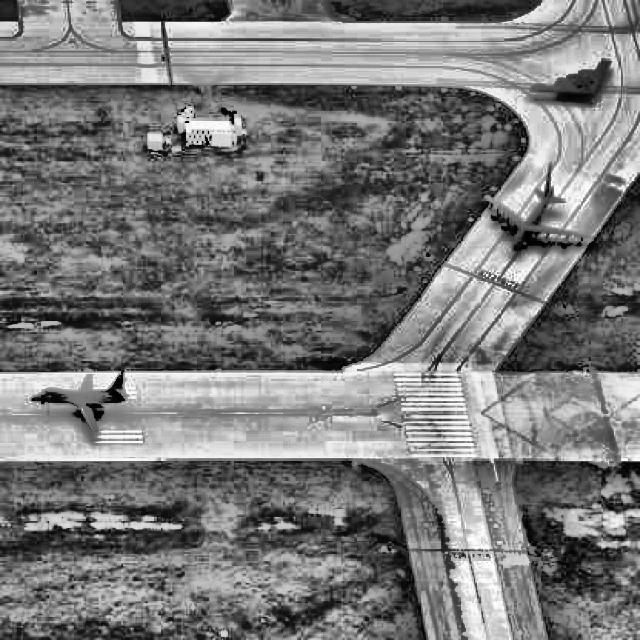B1: (29, 369, 129, 434)
B2: (530, 58, 612, 105)
B52: (484, 160, 594, 254)
